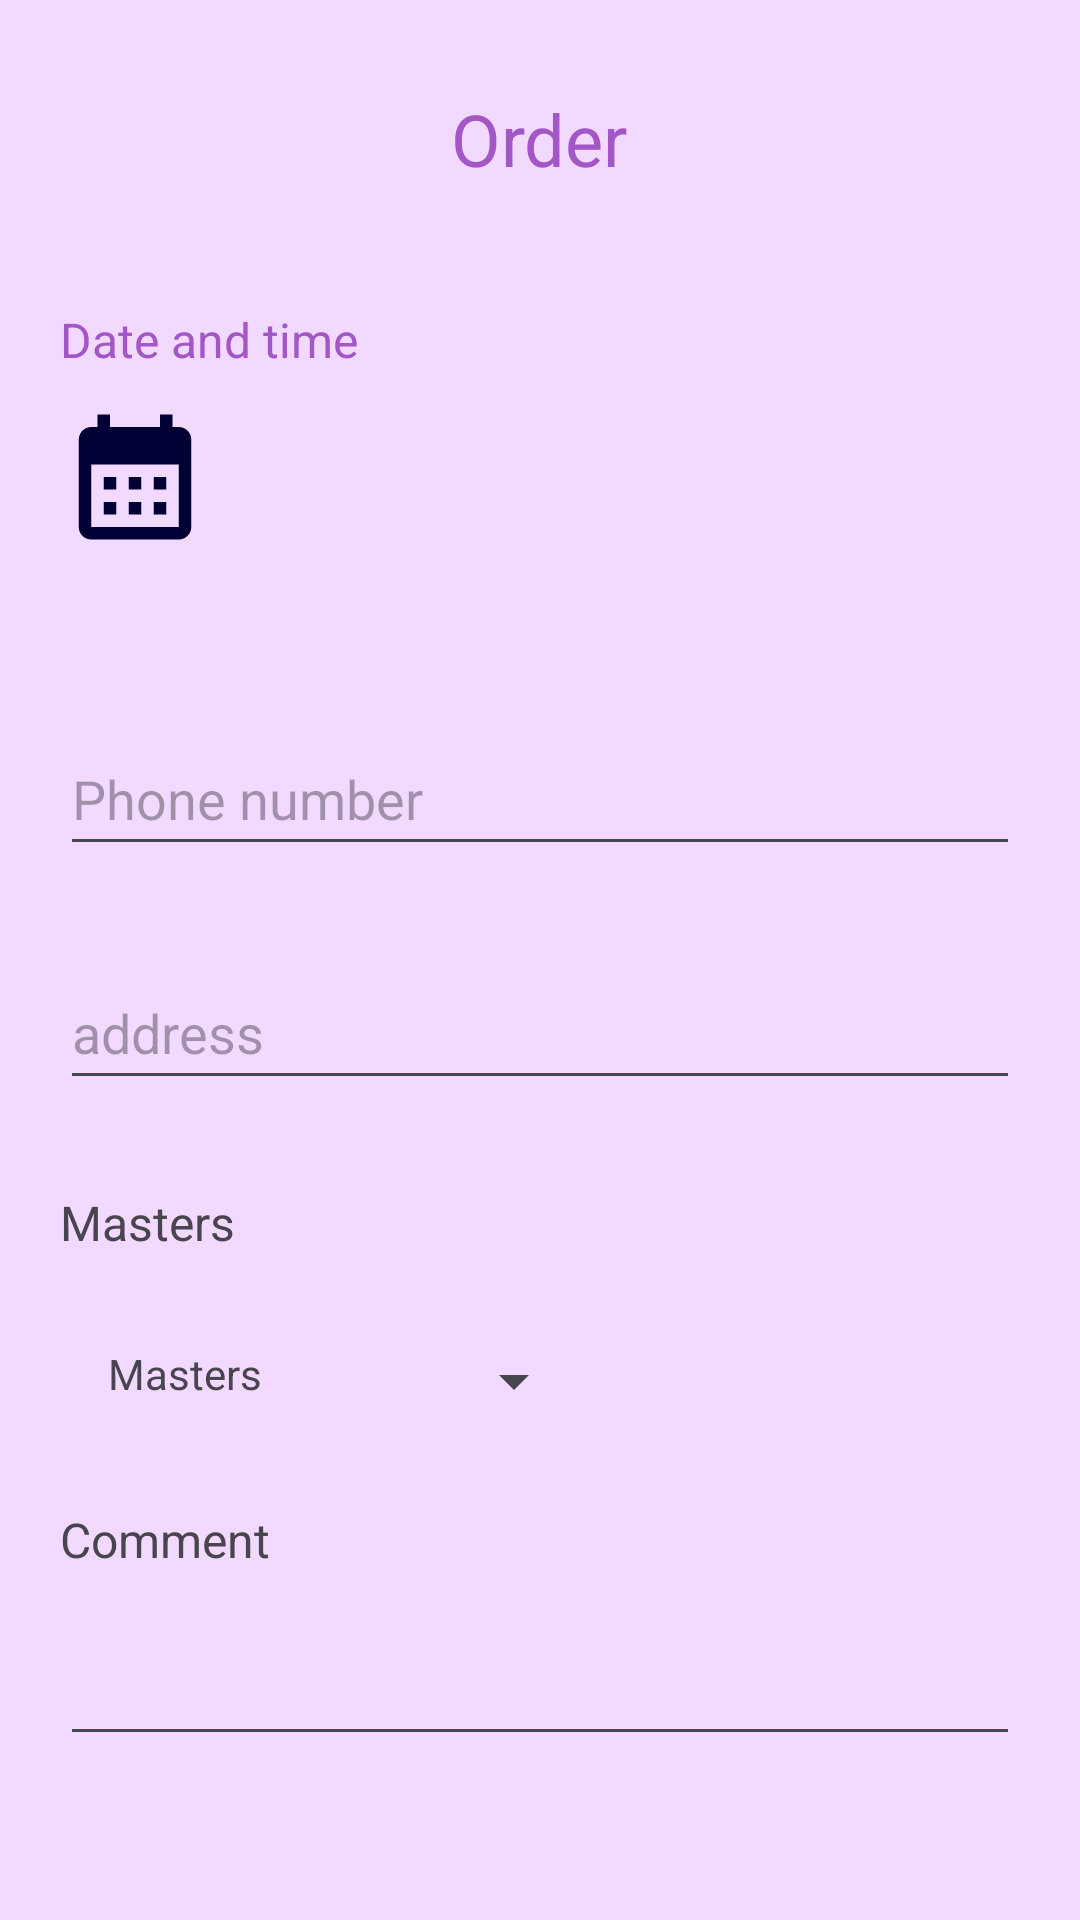

Where to tap for icons on this 1080x1920 app screen, as point (x, y):
calender: point (135, 477)
